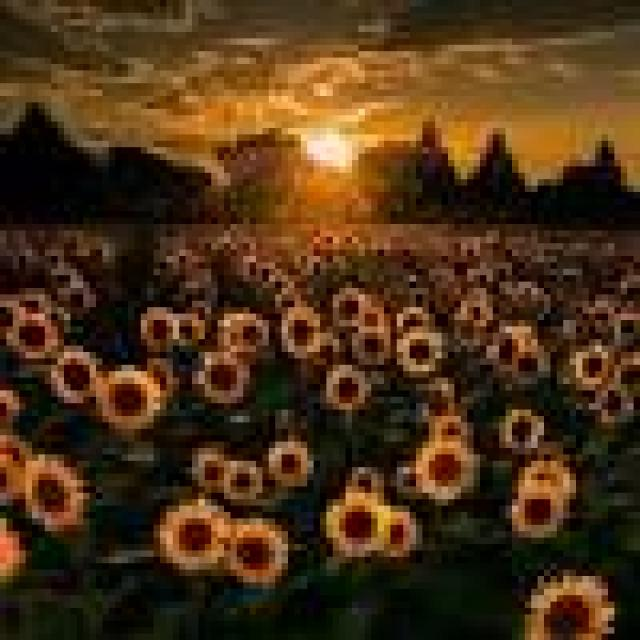sunflower: (515, 569, 624, 640), (154, 496, 236, 579), (22, 454, 100, 532), (92, 365, 170, 435), (320, 483, 390, 560), (224, 522, 292, 592), (409, 432, 474, 496), (189, 349, 253, 406), (499, 484, 570, 534), (390, 327, 448, 378), (52, 346, 102, 403), (324, 365, 374, 416), (220, 454, 266, 506), (278, 307, 324, 358), (266, 438, 316, 484), (502, 410, 548, 460), (138, 301, 182, 352), (566, 342, 612, 388), (330, 288, 368, 326)
